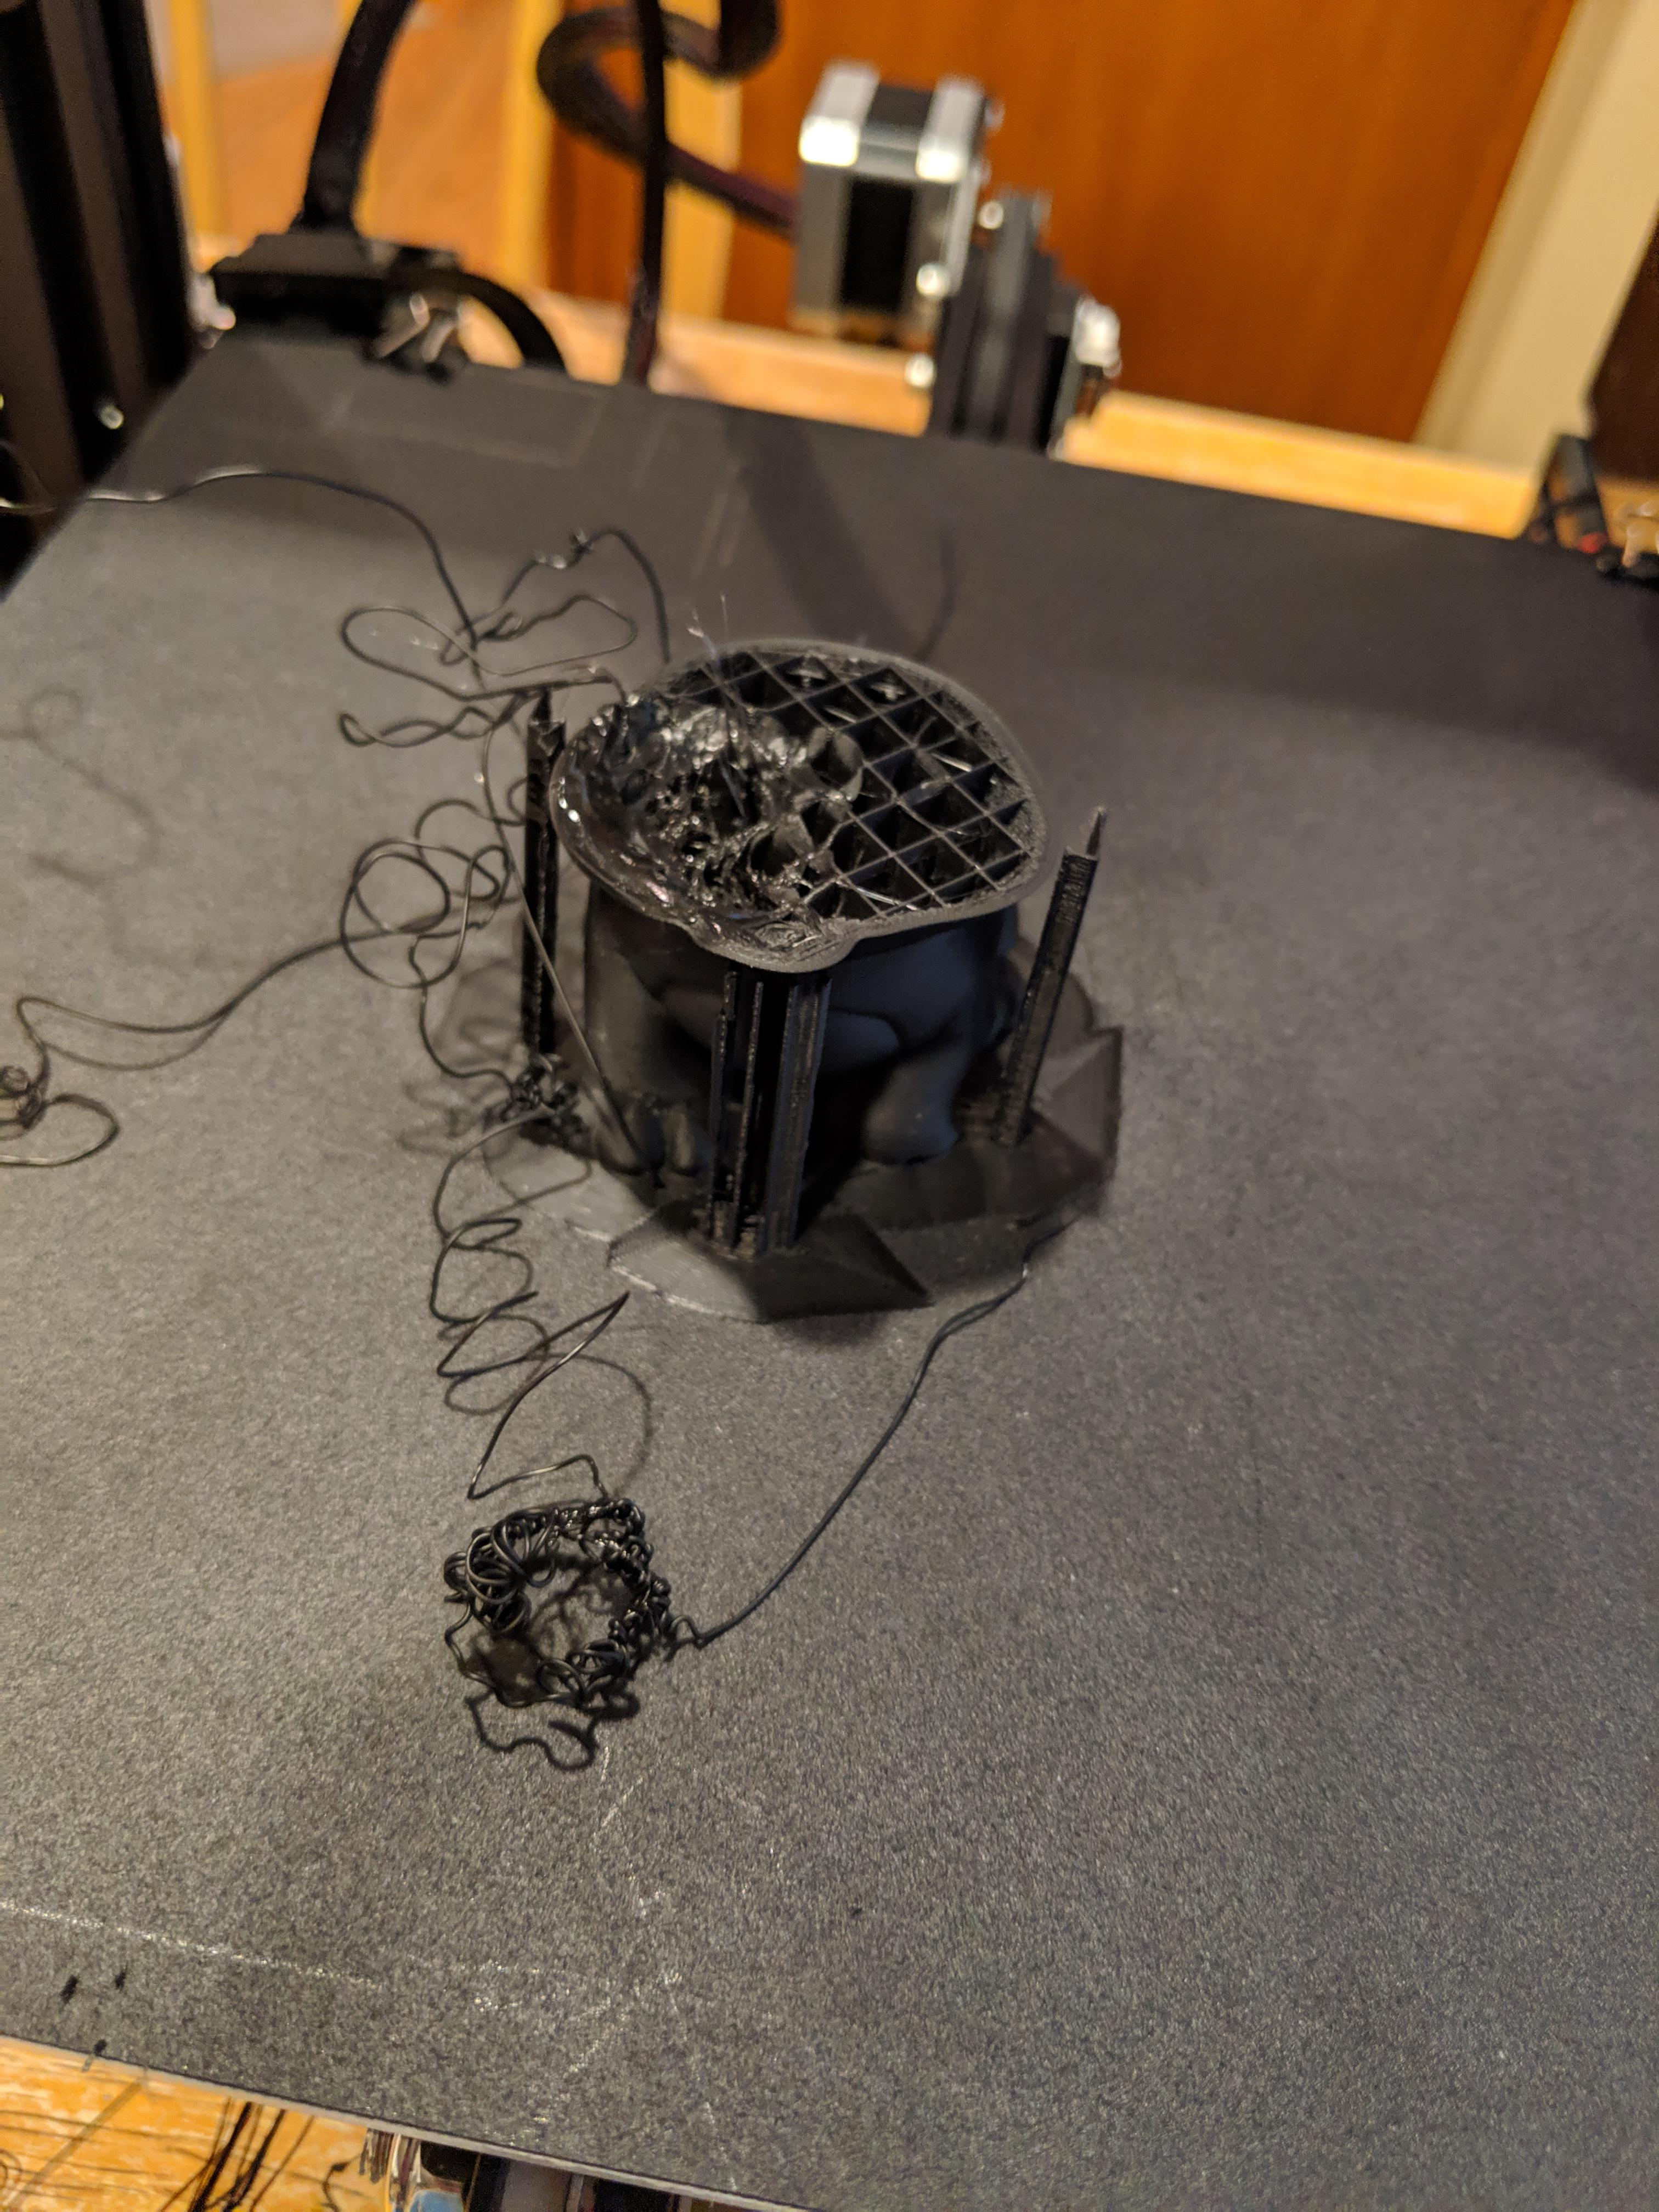Fail: (207, 495, 1230, 1743)
